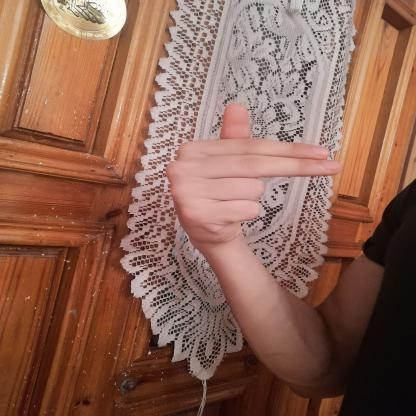GHAYN: (154, 99, 358, 254)
